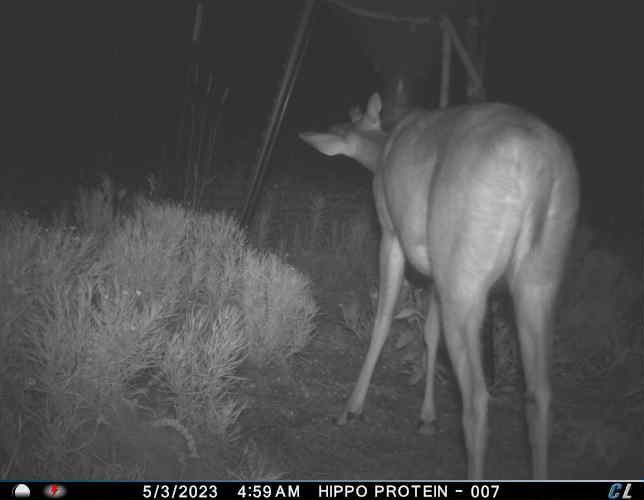Deer: (296, 87, 582, 481)
